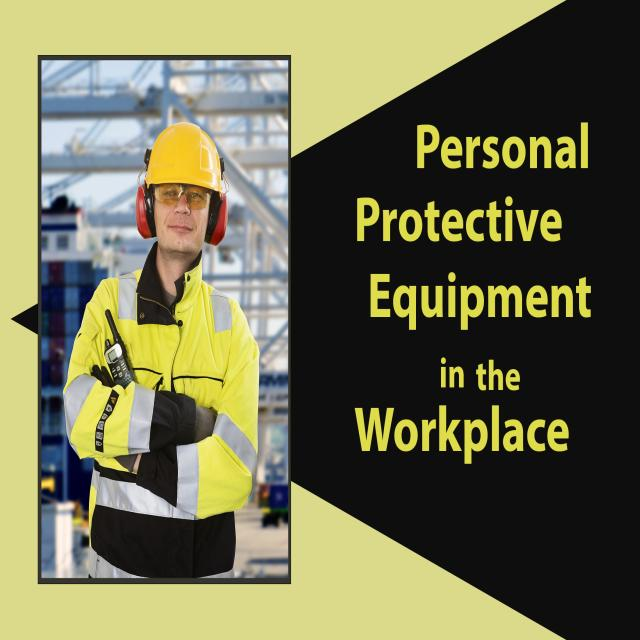goggles: (150, 186, 213, 209)
helmet: (145, 120, 229, 195)
vest: (63, 266, 261, 584)
